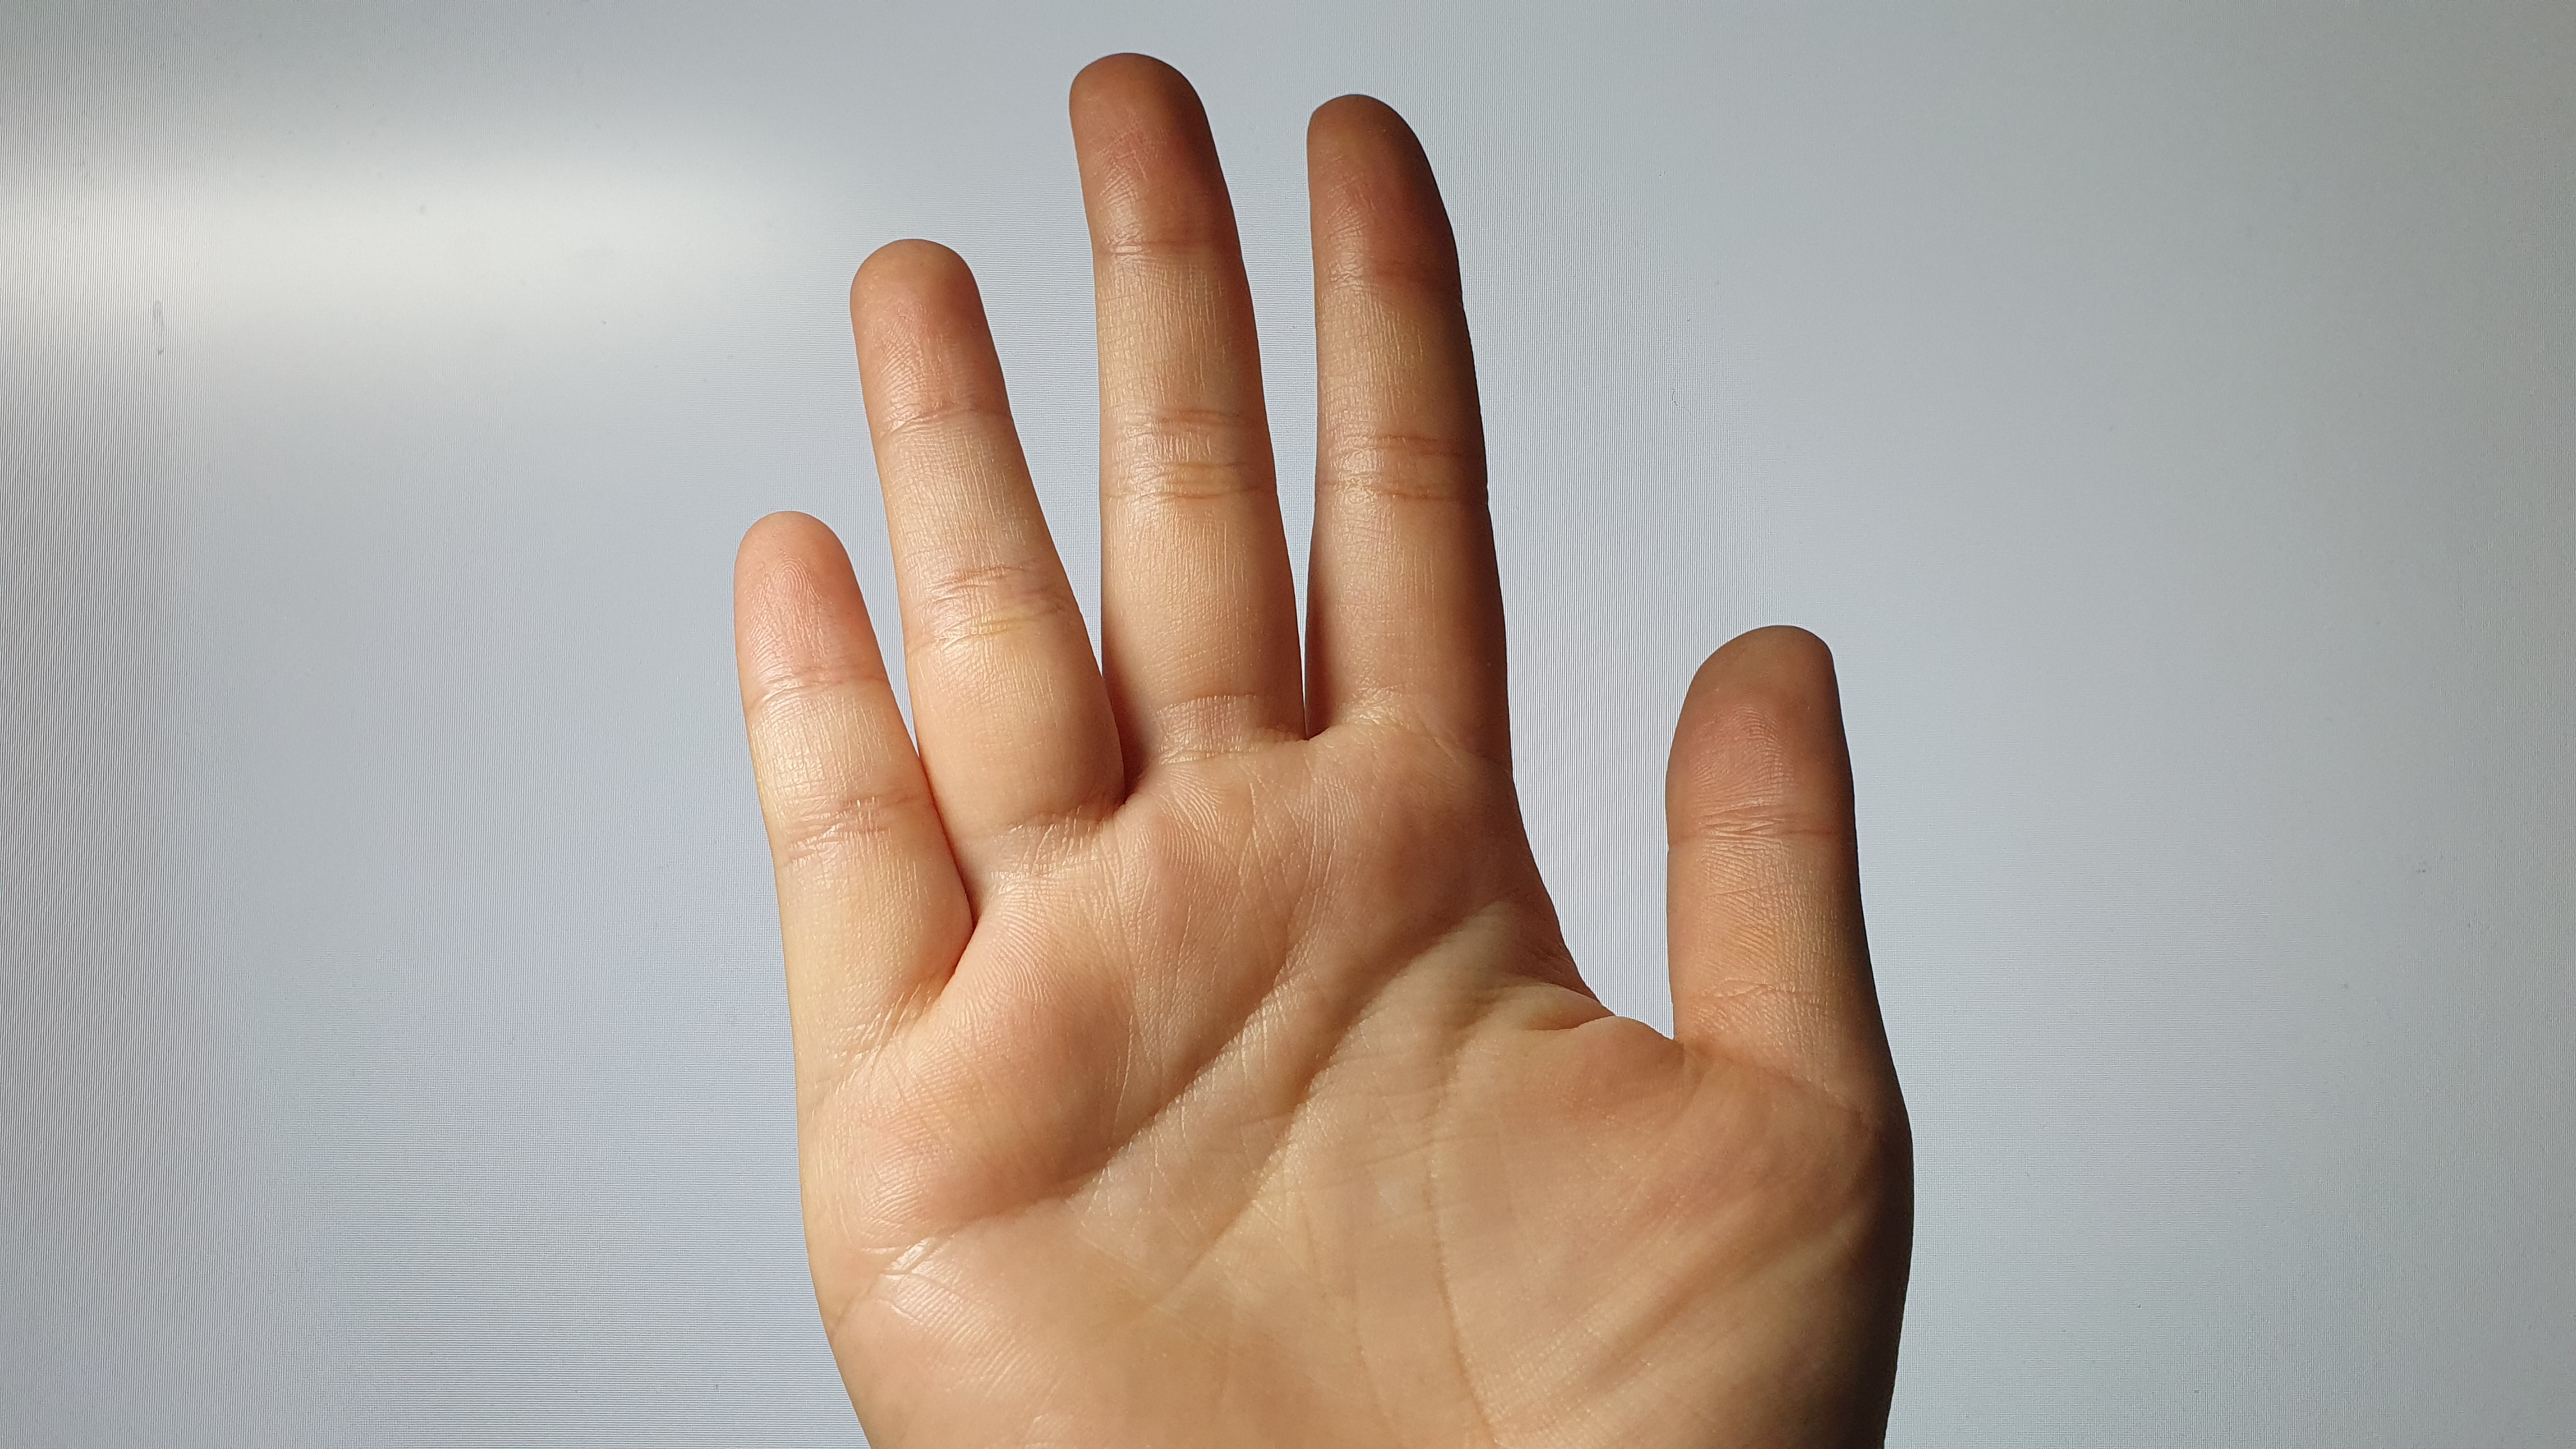hand: (736, 46, 1914, 1449)
index finger: (1277, 83, 1523, 768)
middle finger: (1053, 44, 1329, 789)
palm: (805, 780, 1690, 1449)
pinky: (718, 497, 994, 1028)
ring finger: (842, 226, 1132, 851)
thumb: (1651, 625, 1920, 1152)
